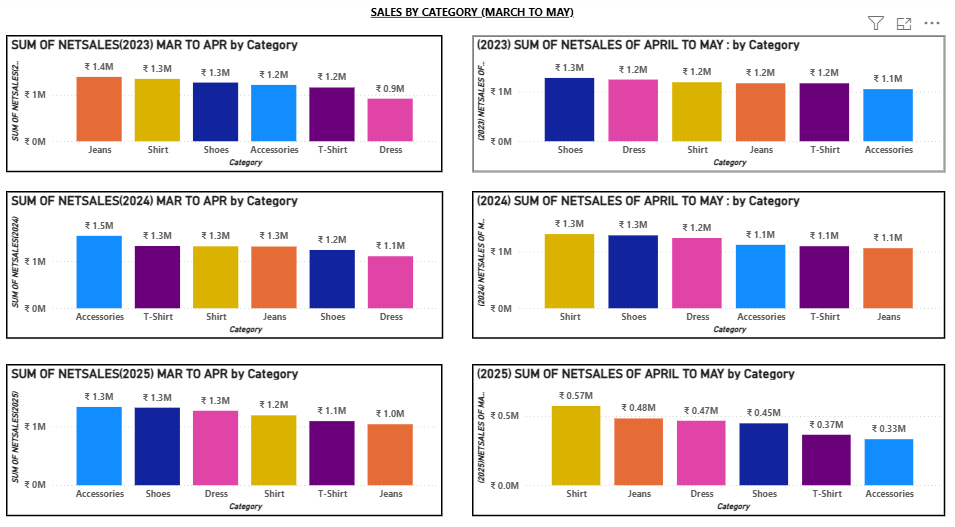

The dashboard page shown, as its layout file describes it:
{"tool":"powerbi","page":{"name":"sales by category  march to may","canvas":[1280,720],"ordinal":6},"visuals":[{"type":"clusteredColumnChart","title":"SUM OF NETSALES(2023) MAR TO APR by Category","fields":{"Y":["clearnowsales.Sales23 Specific Range"],"Category":["clearnowsales.Category"]},"box":[10,51.4,582.2,182.7],"z":0},{"type":"clusteredColumnChart","title":"SUM OF NETSALES(2024) MAR TO APR by Category","fields":{"Y":["clearnowsales.Sales24 Speecific Range"],"Category":["clearnowsales.Category"]},"box":[9.3,260,582.7,197.3],"z":1000},{"type":"clusteredColumnChart","title":"SUM OF NETSALES(2025) MAR TO APR by Category","fields":{"Category":["clearnowsales.Category"],"Y":["clearnowsales.Sales25 Specific Range"]},"box":[10,490.9,582.2,202.6],"z":2000},{"type":"clusteredColumnChart","title":"(2023) SUM OF NETSALES OF APRIL TO MAY : by Category","fields":{"Y":["clearnowsales.nmSales23 Specific Range"],"Category":["clearnowsales.Category"]},"box":[630.7,51.4,630.7,182.7],"z":3000},{"type":"clusteredColumnChart","title":"(2024) SUM OF NETSALES OF  APRIL TO MAY : by Category","fields":{"Y":["clearnowsales.nmSales24 Specific Range"],"Category":["clearnowsales.Category"]},"box":[630.7,260,630.7,197.3],"z":4000},{"type":"clusteredColumnChart","title":"(2025) SUM OF NETSALES OF APRIL TO MAY by Category","fields":{"Category":["clearnowsales.Category"],"Y":["clearnowsales.nmSales25 Specific Range"]},"box":[630.7,490.7,630.7,202.7],"z":5000},{"type":"shape","box":[480.9,0,299.7,42.8],"z":6000}]}

Visuals, with their boxes in screenshot pixels (x1, y1, x2, y2), scaled from the page's 1280x720 canvas onto the 955x527 screenshot:
"SUM OF NETSALES(2023) MAR TO APR by Category" clusteredColumnChart: left=7, top=38, right=442, bottom=171
"SUM OF NETSALES(2024) MAR TO APR by Category" clusteredColumnChart: left=7, top=190, right=442, bottom=335
"SUM OF NETSALES(2025) MAR TO APR by Category" clusteredColumnChart: left=7, top=359, right=442, bottom=508
"(2023) SUM OF NETSALES OF APRIL TO MAY : by Category" clusteredColumnChart: left=471, top=38, right=941, bottom=171
"(2024) SUM OF NETSALES OF  APRIL TO MAY : by Category" clusteredColumnChart: left=471, top=190, right=941, bottom=335
"(2025) SUM OF NETSALES OF APRIL TO MAY by Category" clusteredColumnChart: left=471, top=359, right=941, bottom=508
shape: left=359, top=0, right=582, bottom=31
